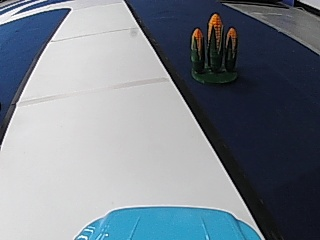corn: (187, 10, 241, 84)
